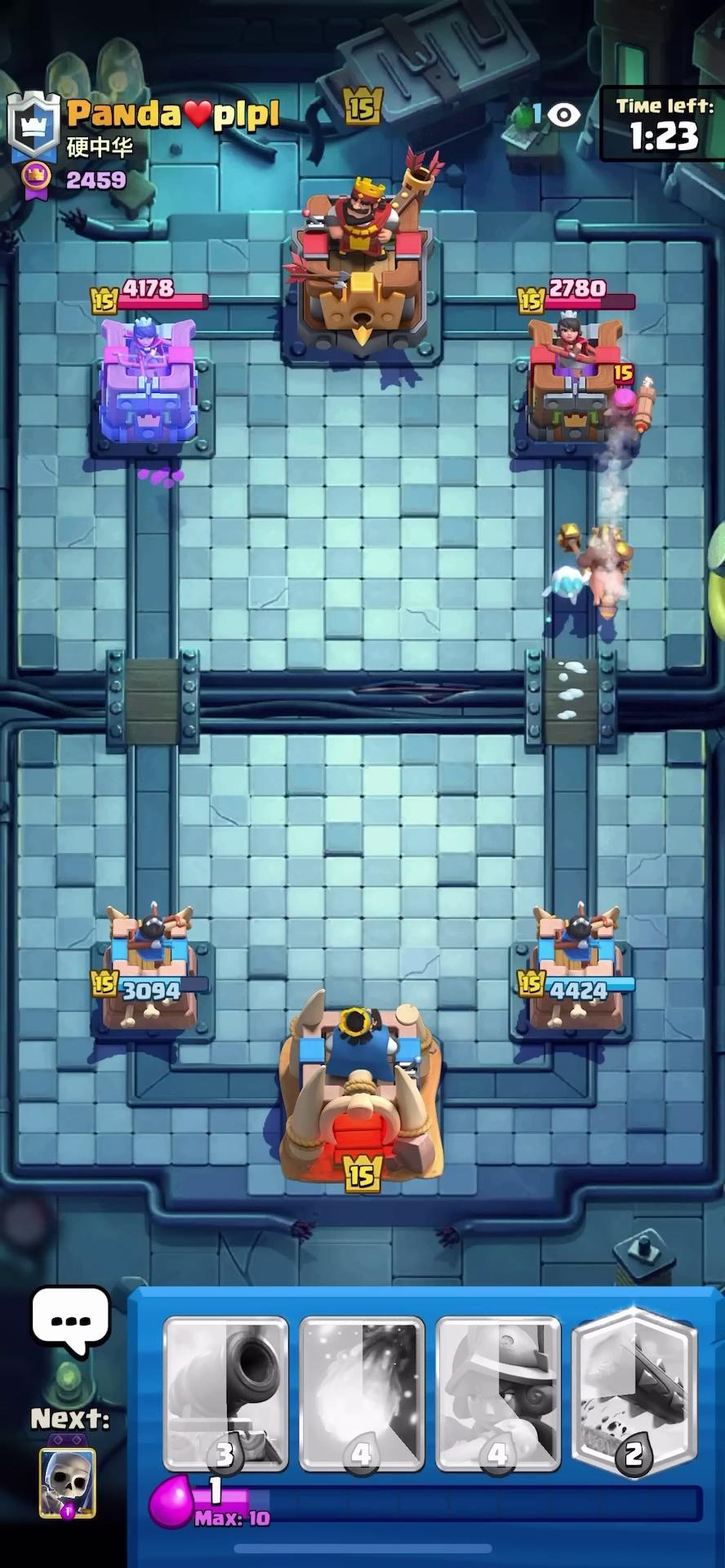hog_rider: (559, 508, 645, 619)
ice_spirit: (543, 549, 590, 615)
